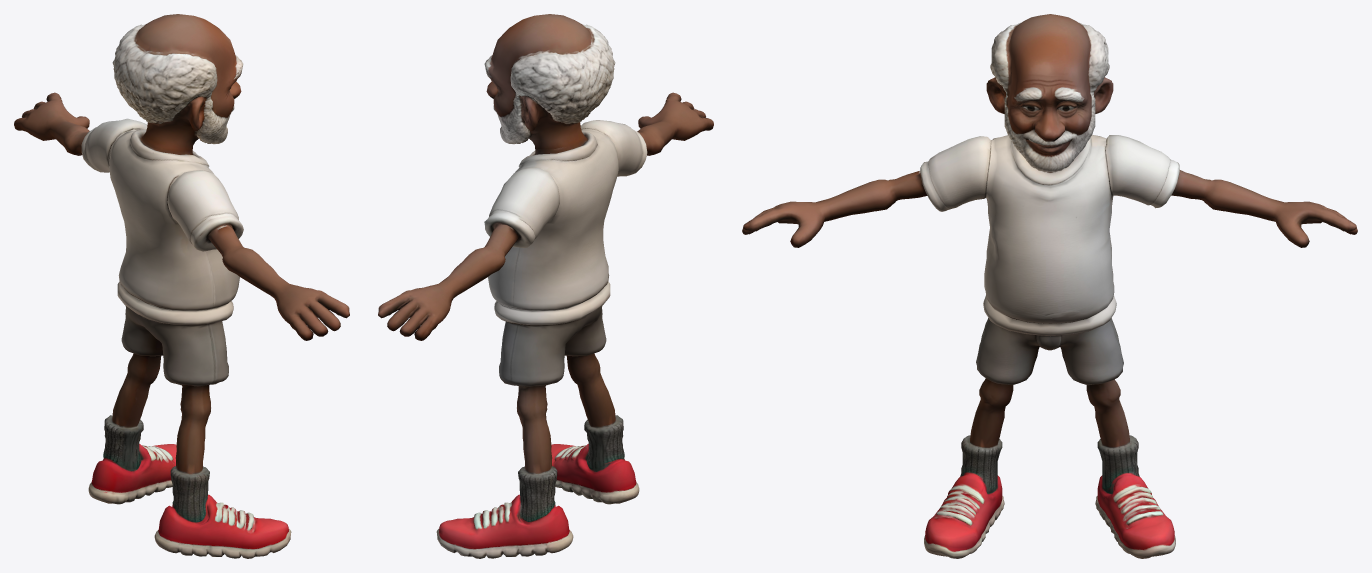
3 views of the same model, side by side, from view 1: azimuth 30°, elevation 25°; view 2: azimuth 150°, elevation 25°; view 3: azimuth 270°, elevation 25° (orthographic). The views are drawn at different scales.
Parts seen in each view (by area): view 1: tripo_node_c8a2c946; view 2: tripo_node_c8a2c946; view 3: tripo_node_c8a2c946.
Part boxes in pixels (box(x1,y1,x2,y2)): tripo_node_c8a2c946: box(14, 14, 349, 558); tripo_node_c8a2c946: box(378, 14, 713, 558); tripo_node_c8a2c946: box(742, 14, 1357, 558).
Size of the model in its own units: 22.31 by 92.56 by 100.
Materials: 1 (1 with a texture image).
